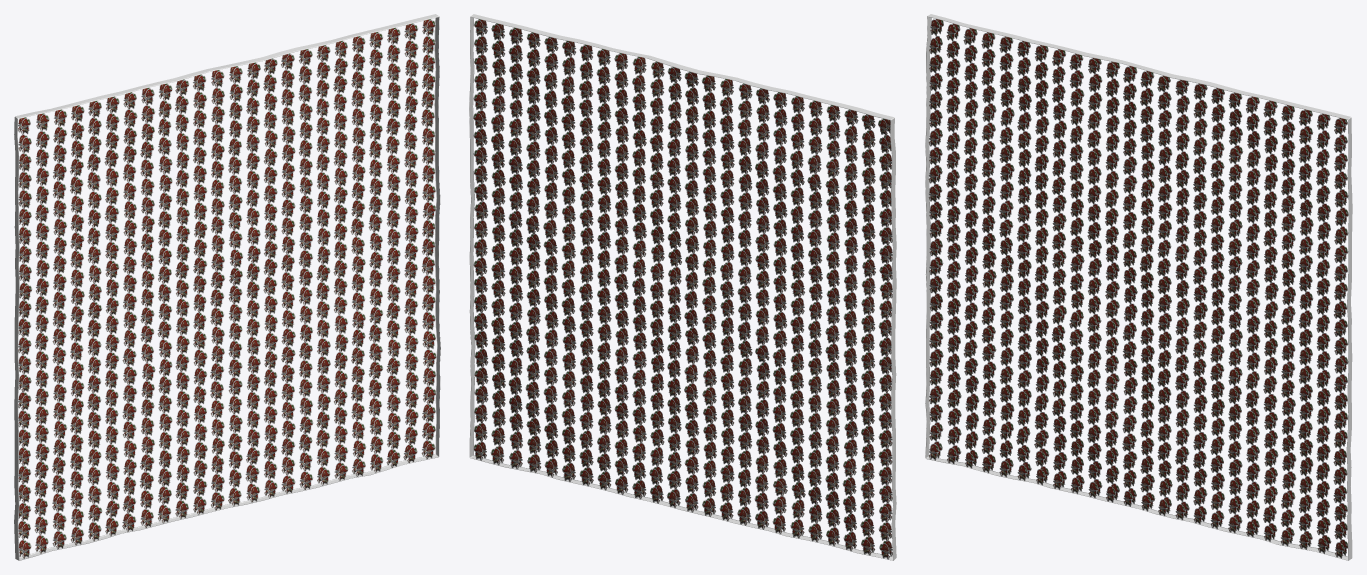
Rendered from SM_Tile_Floor6x6.fbx.
3 renders of one model, left to right at view 1: azimuth 30°, elevation 25°; view 2: azimuth 150°, elevation 25°; view 3: azimuth 330°, elevation 25°, orthographic.
Visible parts, largest first — view 1: SM_Tile_Floor6x6; view 2: SM_Tile_Floor6x6; view 3: SM_Tile_Floor6x6.
Part boxes in pixels (bbox=[...]): SM_Tile_Floor6x6: bbox=[14, 14, 440, 560]; SM_Tile_Floor6x6: bbox=[469, 14, 896, 560]; SM_Tile_Floor6x6: bbox=[925, 14, 1352, 560].
Size of the model in its own units: 1202 by 1203 by 32.86.
